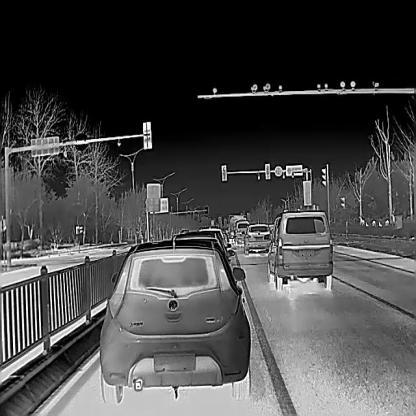car: (99, 243, 251, 403), (266, 210, 332, 291), (170, 232, 233, 272), (241, 224, 271, 255), (227, 213, 247, 240), (234, 220, 250, 245)
